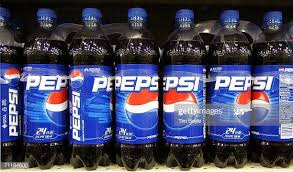Pepsi: (202, 12, 248, 168), (23, 10, 69, 165), (66, 13, 112, 168), (112, 15, 158, 170), (157, 12, 203, 167), (247, 9, 293, 164)
